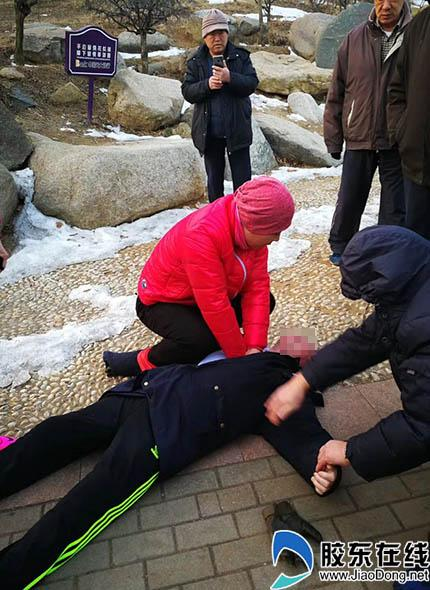bending: (106, 172, 302, 392)
down: (1, 320, 341, 588)
up: (317, 1, 419, 269), (170, 6, 272, 228)
